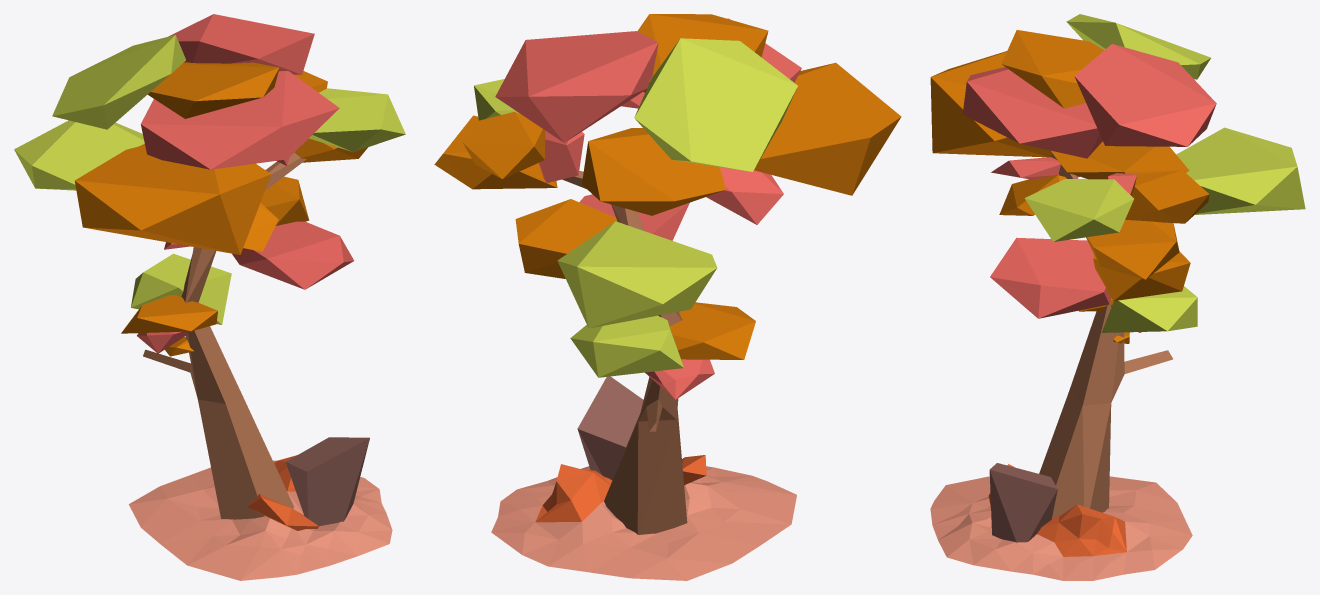
Rendered from bushy-tree.glb.
The picture shows the model from 3 angles, left to right: view 1: azimuth 30°, elevation 25°; view 2: azimuth 150°, elevation 25°; view 3: azimuth 270°, elevation 25°; orthographic projection. The views are drawn at different scales.
Visible parts, largest first — view 1: Cube.011; view 2: Cube.011; view 3: Cube.011.
Boxes of the visible parts, left/top/right/bottom form: Cube.011: left=14, top=14, right=405, bottom=580; Cube.011: left=434, top=14, right=901, bottom=580; Cube.011: left=930, top=14, right=1305, bottom=580.
Size of the model in its own units: 236 by 309 by 222.
